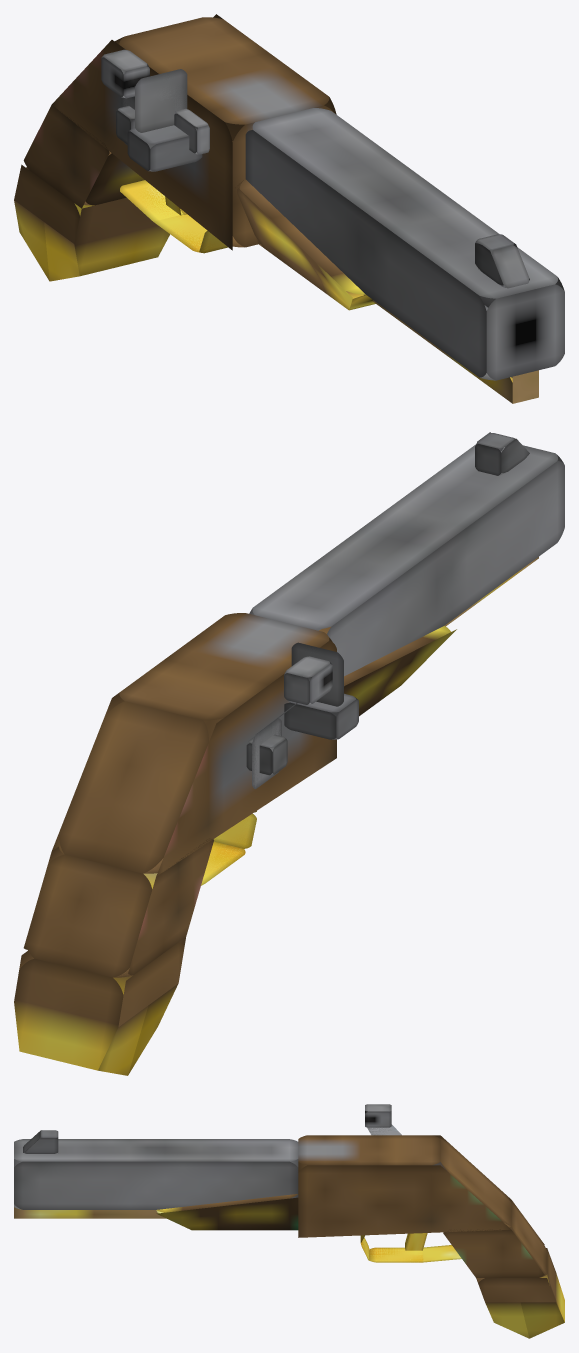
Rendered from flintlock.obj.
3 renders of one model, top to bottom at view 1: azimuth 30°, elevation 25°; view 2: azimuth 150°, elevation 25°; view 3: azimuth 270°, elevation 25°, orthographic. The views are drawn at different scales.
Parts seen in each view (by area): view 1: cuboid, flashpan, hammer, ram_rod; view 2: cuboid, hammer, flashpan; view 3: cuboid, ram_rod, hammer, trigger.
Boxes of the visible parts, <box> form: cuboid: <box>14,14,564,380</box>; flashpan: <box>135,69,209,154</box>; hammer: <box>101,49,149,145</box>; ram_rod: <box>364,294,538,403</box>; cuboid: <box>14,432,564,1075</box>; hammer: <box>246,656,332,789</box>; flashpan: <box>291,642,343,706</box>; cuboid: <box>14,1130,564,1338</box>; ram_rod: <box>14,1207,165,1218</box>; hammer: <box>365,1104,401,1135</box>; trigger: <box>405,1233,427,1250</box>.
Size of the model in its own units: 0.0938 by 0.1875 by 0.4844.
